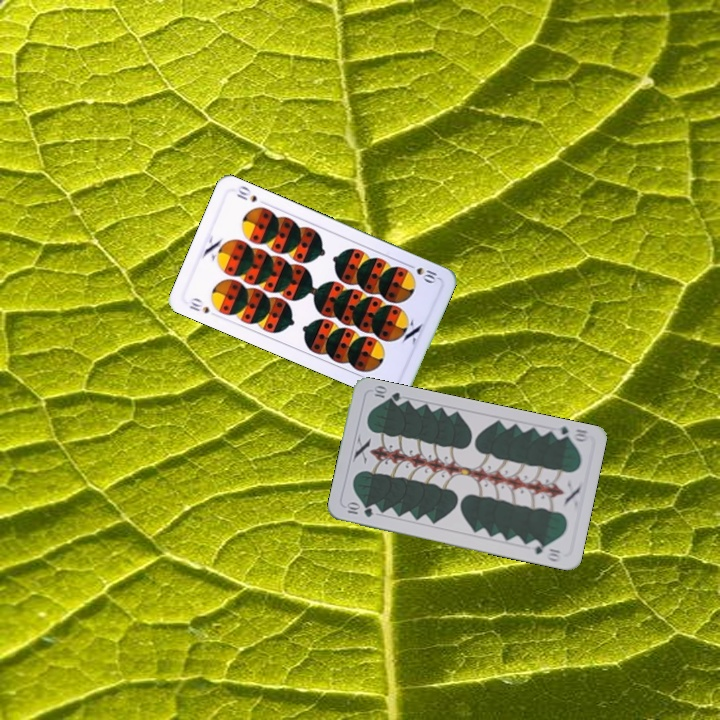G10: (550, 422, 591, 444), (342, 500, 376, 520)
S10: (403, 259, 441, 286), (185, 294, 212, 316)
